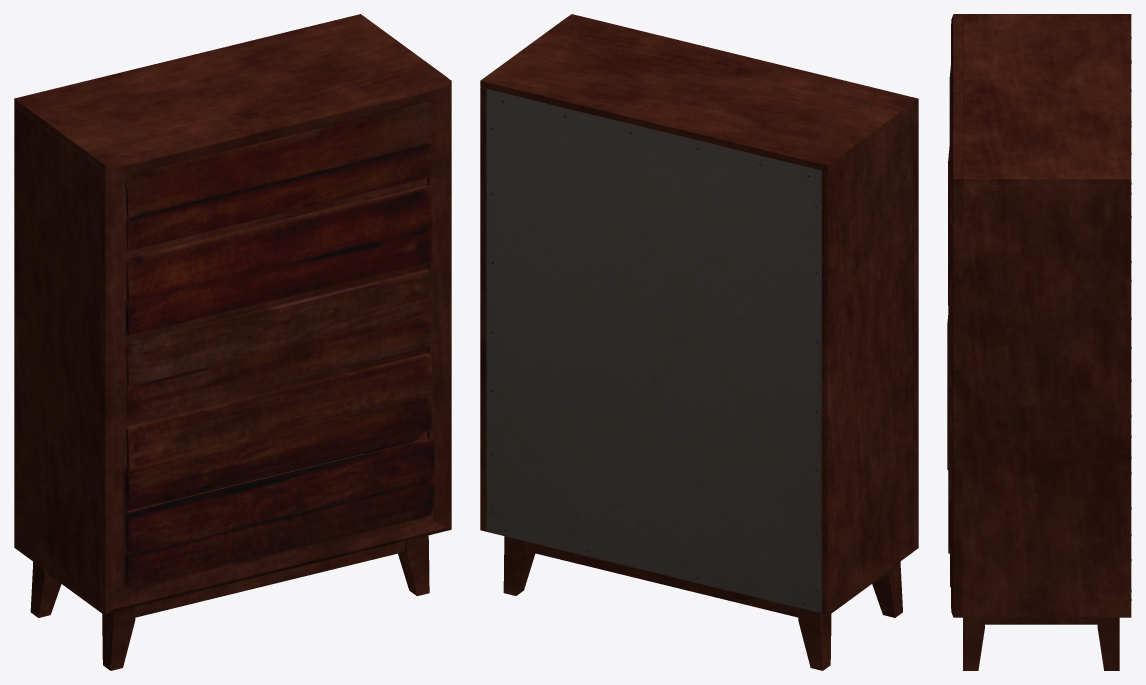
File: cabinet_B07121RM99.glb
3 renders of one model, left to right at view 1: azimuth 30°, elevation 25°; view 2: azimuth 150°, elevation 25°; view 3: azimuth 270°, elevation 25°, orthographic. The views are drawn at different scales.
Parts seen in each view (by area): view 1: RootNode; view 2: RootNode; view 3: RootNode.
Part boxes in pixels (box(x1,y1,x2,y2)): RootNode: box(14, 14, 451, 670); RootNode: box(480, 14, 918, 670); RootNode: box(947, 14, 1131, 670).
Size of the model in its own units: 1.07 by 1.51 by 0.5062.
1 material, 1 textured.
